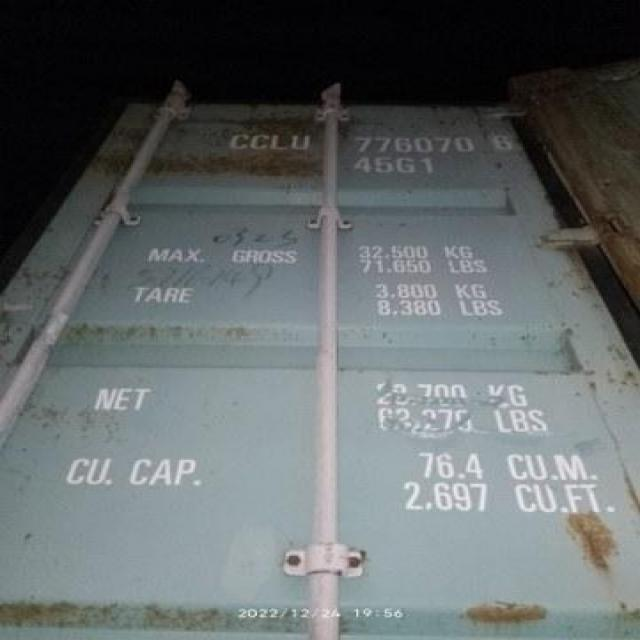container_number_h: (222, 113, 540, 196)
